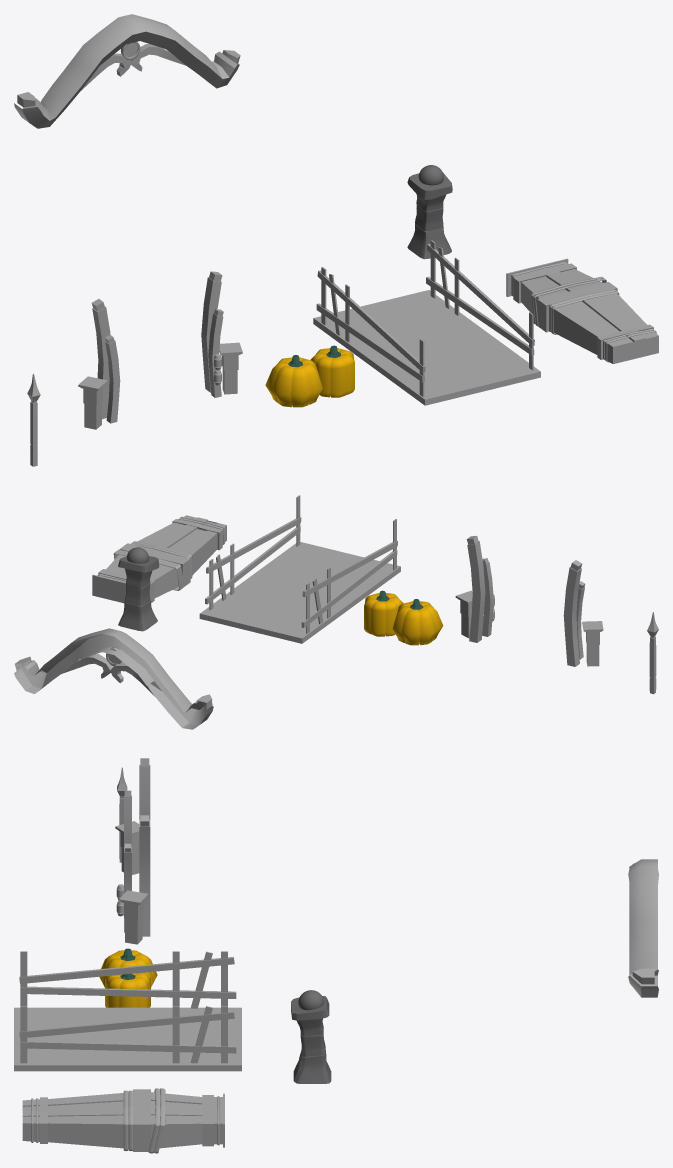
The model's file is cart.fbx.
The picture shows the model from 3 angles, top to bottom: view 1: azimuth 30°, elevation 25°; view 2: azimuth 150°, elevation 25°; view 3: azimuth 270°, elevation 25°; orthographic projection. The views are drawn at different scales.
Parts seen in each view (by area): view 1: pCube14, coffin, pCube22, pCube2, pCylinder2, PUMKIN:pCylinder1, pCube18, pCube19, pCube17, pCube16, pCube20, pCube15 (+1 smaller); view 2: pCube14, pCube22, coffin, pCube2, pCylinder2, pCube18, PUMKIN:pCylinder1, pCube19, pCube17, pCube15, spike:pCube1, pCube20 (+1 smaller); view 3: pCube14, coffin, pCube22, pCube2, pCube18, PUMKIN:pCylinder1, pCube20, pCylinder2, pCube19, pCube17.
Boxes of the visible parts, x1=… form: pCube14: x1=313, y1=240, x2=540, y2=405; coffin: x1=506, y1=258, x2=658, y2=364; pCube22: x1=14, y1=14, x2=240, y2=128; pCube2: x1=407, y1=165, x2=452, y2=259; pCylinder2: x1=265, y1=355, x2=322, y2=407; PUMKIN:pCylinder1: x1=310, y1=345, x2=354, y2=397; pCube18: x1=201, y1=271, x2=222, y2=392; pCube19: x1=91, y1=299, x2=110, y2=419; pCube17: x1=78, y1=376, x2=107, y2=429; pCube16: x1=105, y1=335, x2=120, y2=423; pCube20: x1=219, y1=342, x2=242, y2=394; pCube15: x1=208, y1=309, x2=223, y2=397; pCube14: x1=199, y1=495, x2=400, y2=643; pCube22: x1=14, y1=628, x2=213, y2=729; coffin: x1=92, y1=515, x2=226, y2=603; pCube2: x1=118, y1=547, x2=159, y2=631; pCylinder2: x1=392, y1=599, x2=443, y2=645; pCube18: x1=466, y1=536, x2=485, y2=642; PUMKIN:pCylinder1: x1=364, y1=590, x2=403, y2=636; pCube19: x1=563, y1=560, x2=582, y2=666; pCube17: x1=582, y1=621, x2=603, y2=666; pCube15: x1=482, y1=558, x2=493, y2=636; spike:pCube1: x1=647, y1=612, x2=658, y2=694; pCube20: x1=455, y1=590, x2=472, y2=638; pCube14: x1=14, y1=951, x2=241, y2=1071; coffin: x1=22, y1=1089, x2=224, y2=1151; pCube22: x1=628, y1=859, x2=658, y2=997; pCube2: x1=291, y1=990, x2=331, y2=1083; pCube18: x1=139, y1=815, x2=150, y2=936; PUMKIN:pCylinder1: x1=105, y1=973, x2=150, y2=1007; pCube20: x1=119, y1=890, x2=148, y2=944; pCylinder2: x1=99, y1=948, x2=157, y2=987; pCube19: x1=139, y1=758, x2=150, y2=819; pCube17: x1=115, y1=821, x2=139, y2=874.
Size of the model in its own units: 29.65 by 8.17 by 27.3.
